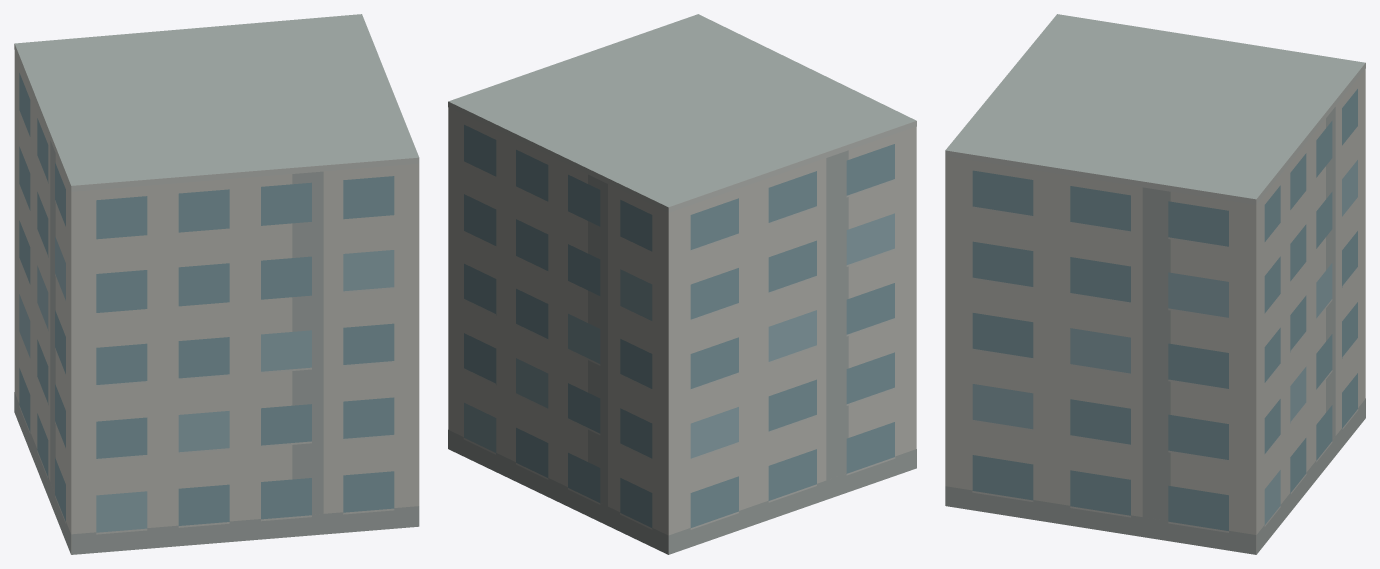
Rendered from survey-upis-32990155.glb.
3 views of the same model, side by side, from view 1: azimuth 30°, elevation 25°; view 2: azimuth 150°, elevation 25°; view 3: azimuth 270°, elevation 25° (orthographic). The views are drawn at different scales.
Visible parts, largest first — view 1: survey-upis-32990155.tmp; view 2: survey-upis-32990155.tmp; view 3: survey-upis-32990155.tmp.
Part boxes in pixels (left/top/right/bottom): survey-upis-32990155.tmp: left=14, top=14, right=419, bottom=554; survey-upis-32990155.tmp: left=448, top=14, right=916, bottom=554; survey-upis-32990155.tmp: left=945, top=14, right=1365, bottom=554.
Bounding box in the file's own units: 16.44 × 14.7 × 15.77.
